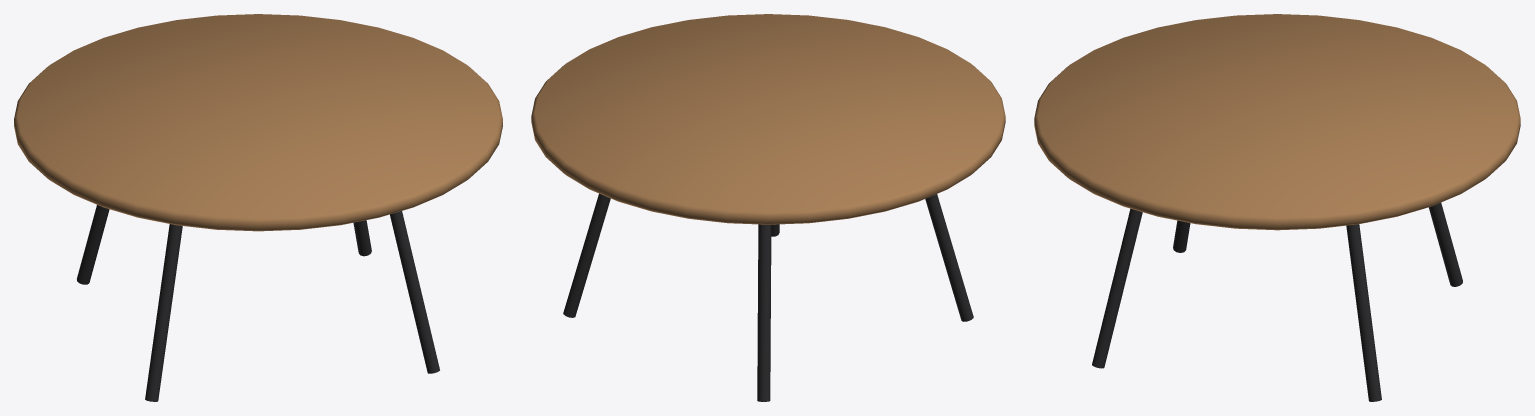
File: i_table_10.glb
3 renders of one model, left to right at view 1: azimuth 30°, elevation 25°; view 2: azimuth 150°, elevation 25°; view 3: azimuth 270°, elevation 25°, orthographic. The views are drawn at different scales.
Visible parts, largest first — view 1: o, o.003, o.004, o.002, o.001; view 2: o, o.002, o.003, o.001; view 3: o, o.001, o.004, o.002, o.003.
Part boxes in pixels (<box>): o: <box>14,14,502,231</box>; o.003: <box>145,224,182,401</box>; o.004: <box>390,211,439,373</box>; o.002: <box>77,205,109,284</box>; o.001: <box>353,220,371,256</box>; o: <box>531,14,1005,224</box>; o.002: <box>757,224,771,401</box>; o.003: <box>925,194,973,321</box>; o.001: <box>563,193,610,317</box>; o: <box>1034,14,1520,230</box>; o.001: <box>1346,224,1381,401</box>; o.004: <box>1092,208,1142,368</box>; o.002: <box>1429,202,1462,286</box>; o.003: <box>1173,220,1190,252</box>.
Bounding box in the file's own units: 0.8 × 0.3827 × 0.8.
